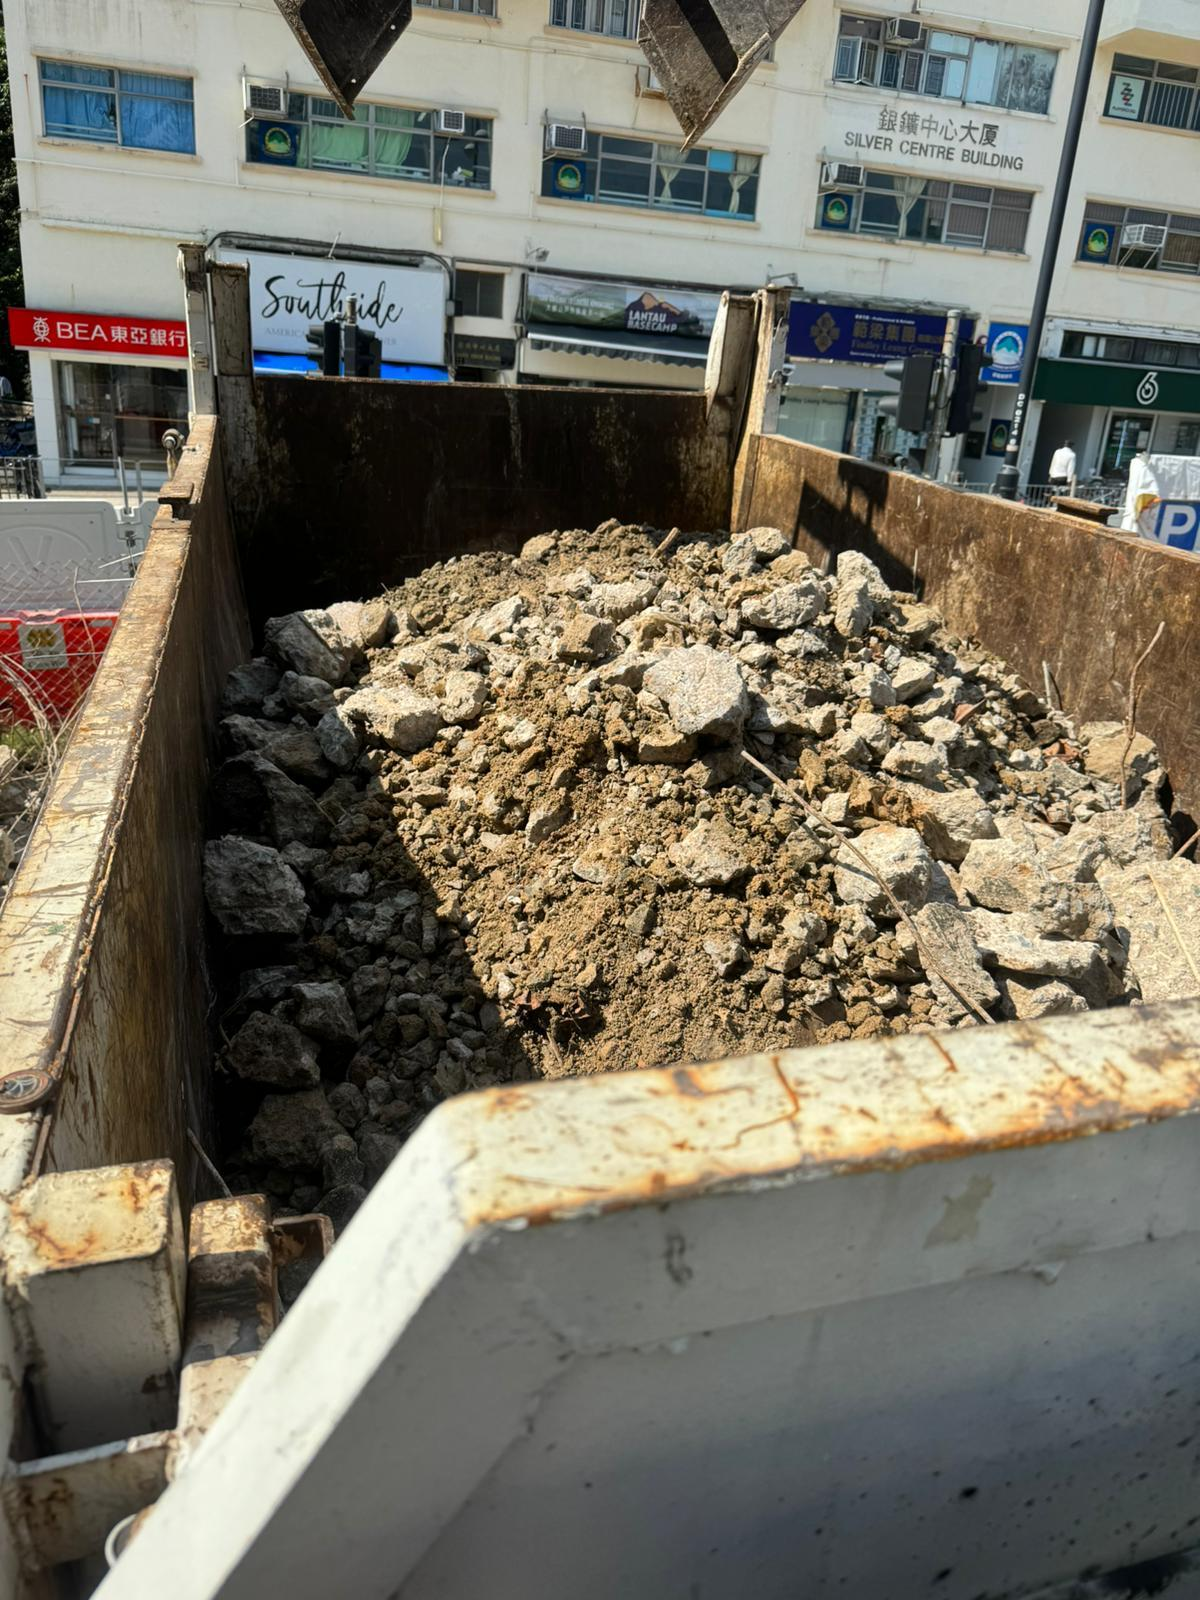dry: (237, 523, 1152, 1204)
